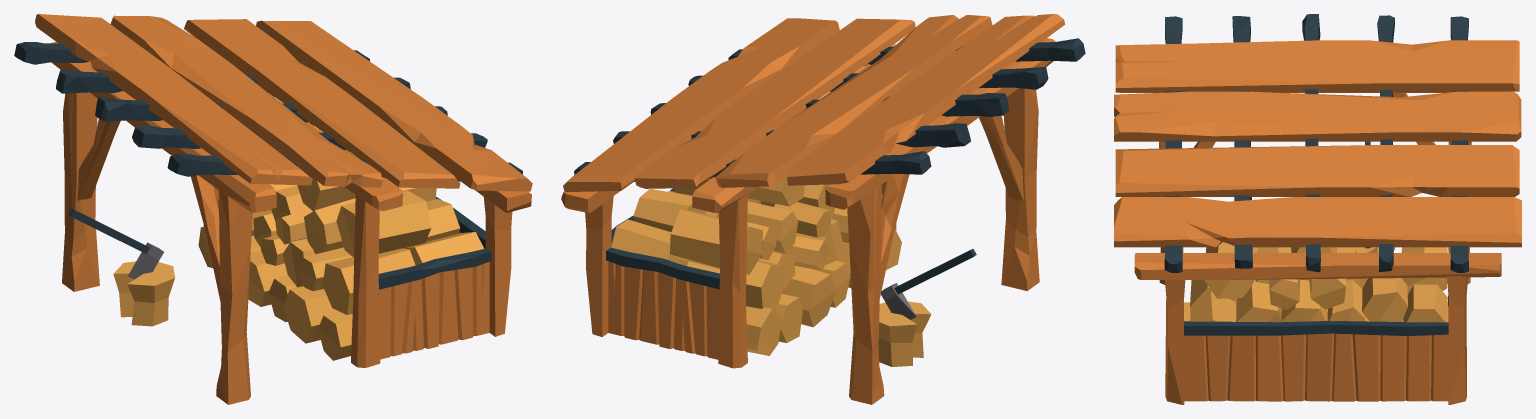
Rendered from woodHouse.fbx.
3 renders of one model, left to right at view 1: azimuth 30°, elevation 25°; view 2: azimuth 150°, elevation 25°; view 3: azimuth 270°, elevation 25°, orthographic. The views are drawn at different scales.
Visible parts, largest first — view 1: polySurface375; view 2: polySurface375; view 3: polySurface375.
Part boxes in pixels (<box>): polySurface375: <box>14,14,532,404</box>; polySurface375: <box>561,14,1085,404</box>; polySurface375: <box>1114,14,1521,404</box>.
Bounding box in the file's own units: 306 × 214 × 331.
